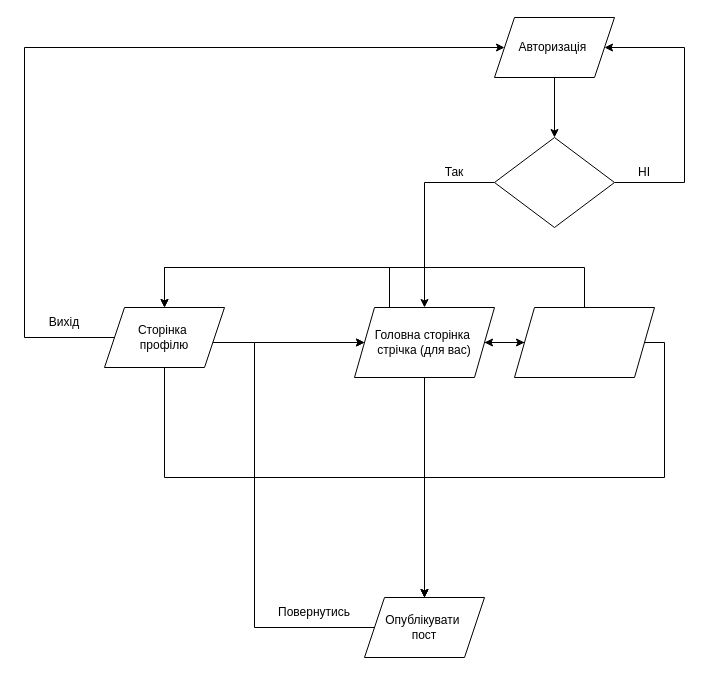
Some shapes in this 710 by 675 pixel diagram are drawn without their labels. The centre of each missing label's shape, as x and y in pixels:
Авторизація успішна: (x=554, y=182)
Головна сторінка стрічка (стрічка підписок): (x=584, y=342)
